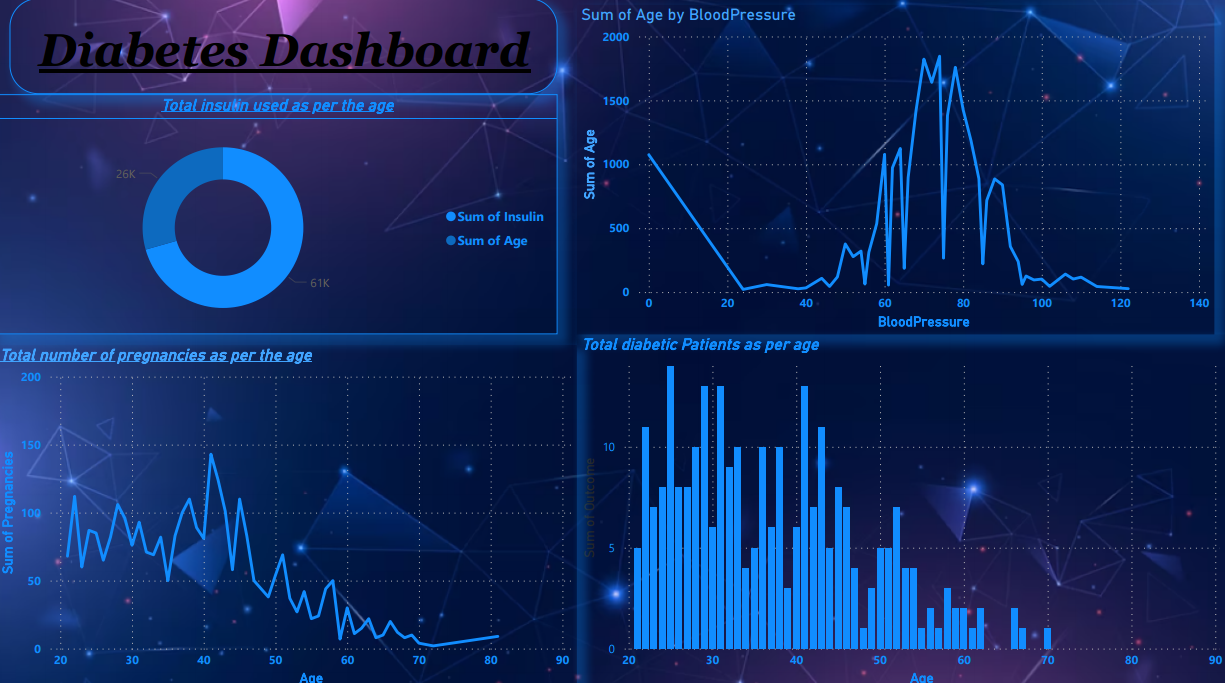

The page's visual inventory and layout, read from the dashboard file:
{"tool":"powerbi","page":{"name":"Page 1","canvas":[1280,720],"ordinal":0},"visuals":[{"type":"columnChart","title":"Total diabetic Patients  as per age","fields":{"Y":["Sum(Diabetes project.Outcome)"],"Category":["Diabetes project.Age"]},"box":[604.6,349.6,675.9,371.6],"z":0},{"type":"lineChart","title":"Total number of pregnancies as per the age ","fields":{"Category":["Diabetes project.Age"],"Y":["Sum(Diabetes project.Pregnancies)"]},"box":[0,360.6,604.6,360.6],"z":1000},{"type":"donutChart","title":"Total insulin used as per the age","fields":{"Y":["Sum(Diabetes project.Insulin)","Sum(Diabetes project.Age)"]},"box":[0,100.1,585.4,249.5],"z":2000},{"type":"textbox","box":[15.1,0,570.4,100.1],"z":3000},{"type":"lineChart","fields":{"Category":["Diabetes project.BloodPressure"],"Y":["Sum(Diabetes project.Age)"]},"box":[604.6,6.9,663.6,342.8],"z":4000}]}

Visuals, with their boxes in screenshot pixels (x1, y1, x2, y2), scaled from the page's 1280x720 canvas onto the 1225x683 screenshot:
"Total diabetic Patients  as per age" columnChart: <bbox>579, 332, 1224, 682</bbox>
"Total number of pregnancies as per the age " lineChart: <bbox>0, 342, 579, 682</bbox>
"Total insulin used as per the age" donutChart: <bbox>0, 95, 560, 332</bbox>
textbox: <bbox>14, 0, 560, 95</bbox>
lineChart - Diabetes project.BloodPressure x Sum(Diabetes project.Age): <bbox>579, 7, 1214, 332</bbox>
